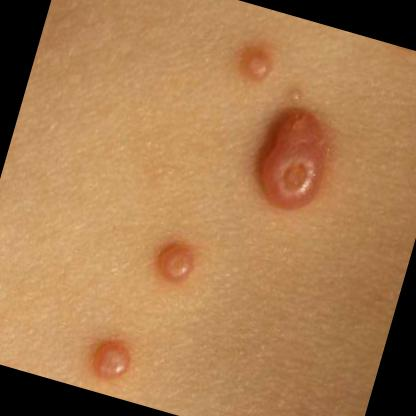Warts: (242, 82, 350, 226), (148, 234, 204, 298), (79, 332, 139, 388), (235, 36, 282, 86)
